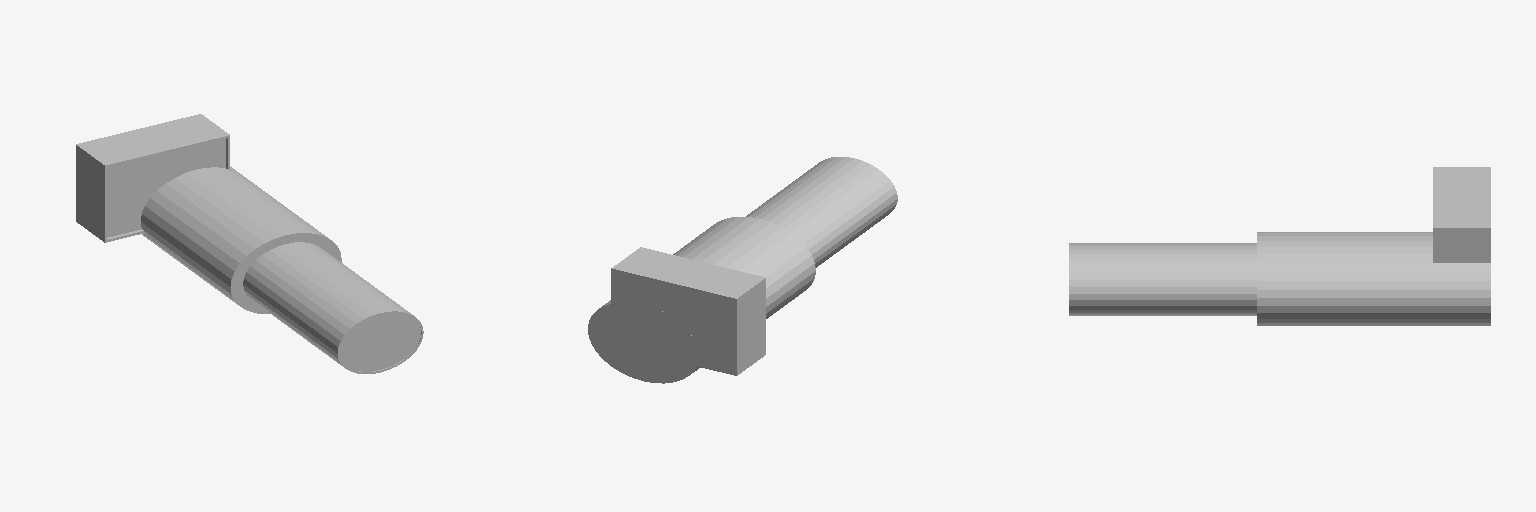
File: PlayBuilding_6.obj
3 renders of one model, left to right at view 1: azimuth 30°, elevation 25°; view 2: azimuth 150°, elevation 25°; view 3: azimuth 270°, elevation 25°, orthographic.
Visible parts, largest first — view 1: 柱体; view 2: 柱体; view 3: 柱体.
Boxes of the visible parts, x1=… form: 柱体: x1=76, y1=114, x2=423, y2=373; 柱体: x1=588, y1=157, x2=897, y2=383; 柱体: x1=1069, y1=167, x2=1490, y2=325.
Size of the model in its own units: 36.8 by 24.76 by 90.31.